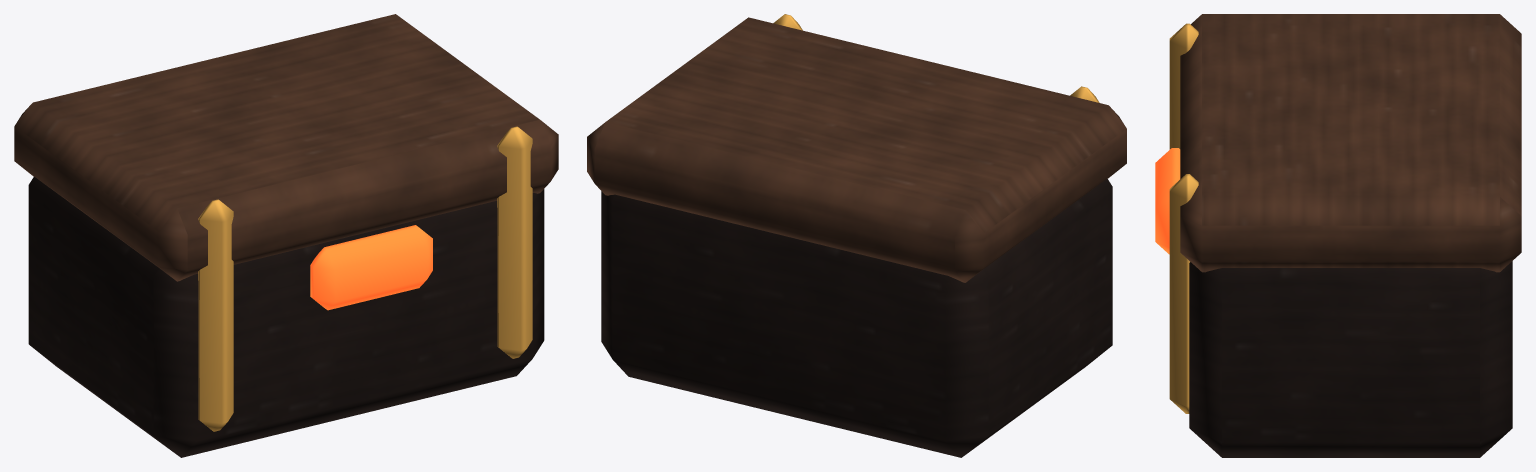
The model's file is salvage_chest.glb.
The picture shows the model from 3 angles, left to right: view 1: azimuth 30°, elevation 25°; view 2: azimuth 150°, elevation 25°; view 3: azimuth 270°, elevation 25°; orthographic projection. The views are drawn at different scales.
Parts seen in each view (by area): view 1: salvage_chest - Burnished nickel, salvage_chest - Heat-treated steel, salvage_chest - Safety enamel.001, salvage_chest - Firebrick indicator; view 2: salvage_chest - Heat-treated steel, salvage_chest - Burnished nickel; view 3: salvage_chest - Burnished nickel, salvage_chest - Heat-treated steel, salvage_chest - Safety enamel.001, salvage_chest - Firebrick indicator.
Part boxes in pixels (box(x1,y1,x2,y2)): salvage_chest - Burnished nickel: box(14, 14, 558, 281); salvage_chest - Heat-treated steel: box(28, 177, 544, 457); salvage_chest - Safety enamel.001: box(198, 126, 532, 431); salvage_chest - Firebrick indicator: box(310, 225, 432, 310); salvage_chest - Heat-treated steel: box(601, 179, 1112, 457); salvage_chest - Burnished nickel: box(587, 17, 1126, 282); salvage_chest - Burnished nickel: box(1180, 14, 1521, 272); salvage_chest - Heat-treated steel: box(1189, 261, 1512, 457); salvage_chest - Safety enamel.001: box(1169, 23, 1198, 413); salvage_chest - Firebrick indicator: box(1155, 148, 1180, 254).
Size of the model in its own units: 1.31 by 0.83 by 1.01.
4 materials, 2 textured.
